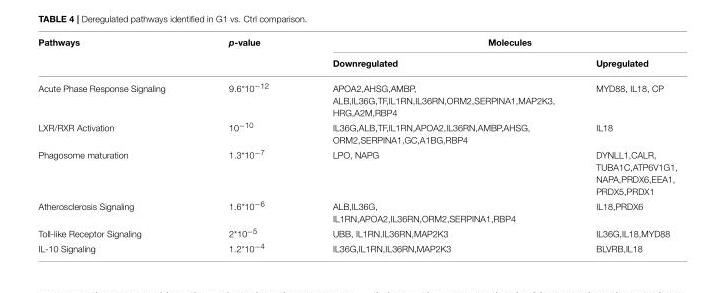table: (37, 37, 676, 253)
table column: (300, 37, 574, 253), (37, 37, 196, 253), (196, 37, 300, 253), (574, 37, 676, 253)
table column header: (37, 37, 676, 74)
table row: (37, 146, 676, 197), (37, 74, 676, 119), (37, 197, 676, 225), (37, 119, 676, 146), (37, 52, 676, 74), (37, 37, 676, 52), (37, 225, 676, 240), (37, 240, 676, 253)
table spanning cell: (37, 37, 196, 74), (300, 37, 676, 52), (196, 37, 300, 74)
